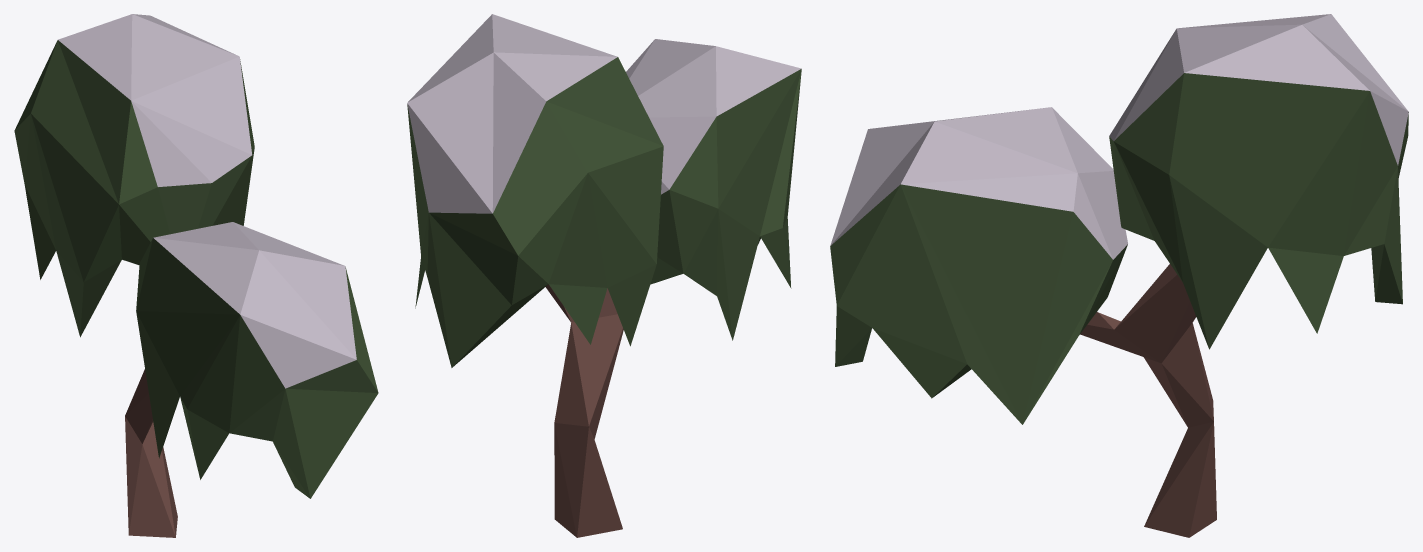
Rendered from Willow_Snow_5.lod3.glb.
3 renders of one model, left to right at view 1: azimuth 30°, elevation 25°; view 2: azimuth 150°, elevation 25°; view 3: azimuth 270°, elevation 25°, orthographic. The views are drawn at different scales.
Visible parts, largest first — view 1: Willow_Snow_5; view 2: Willow_Snow_5; view 3: Willow_Snow_5.
Boxes of the visible parts, <box> form: Willow_Snow_5: <box>14,14,378,537</box>; Willow_Snow_5: <box>407,14,801,537</box>; Willow_Snow_5: <box>830,14,1408,537</box>.
Size of the model in its own units: 0.9313 by 2.43 by 2.47.
